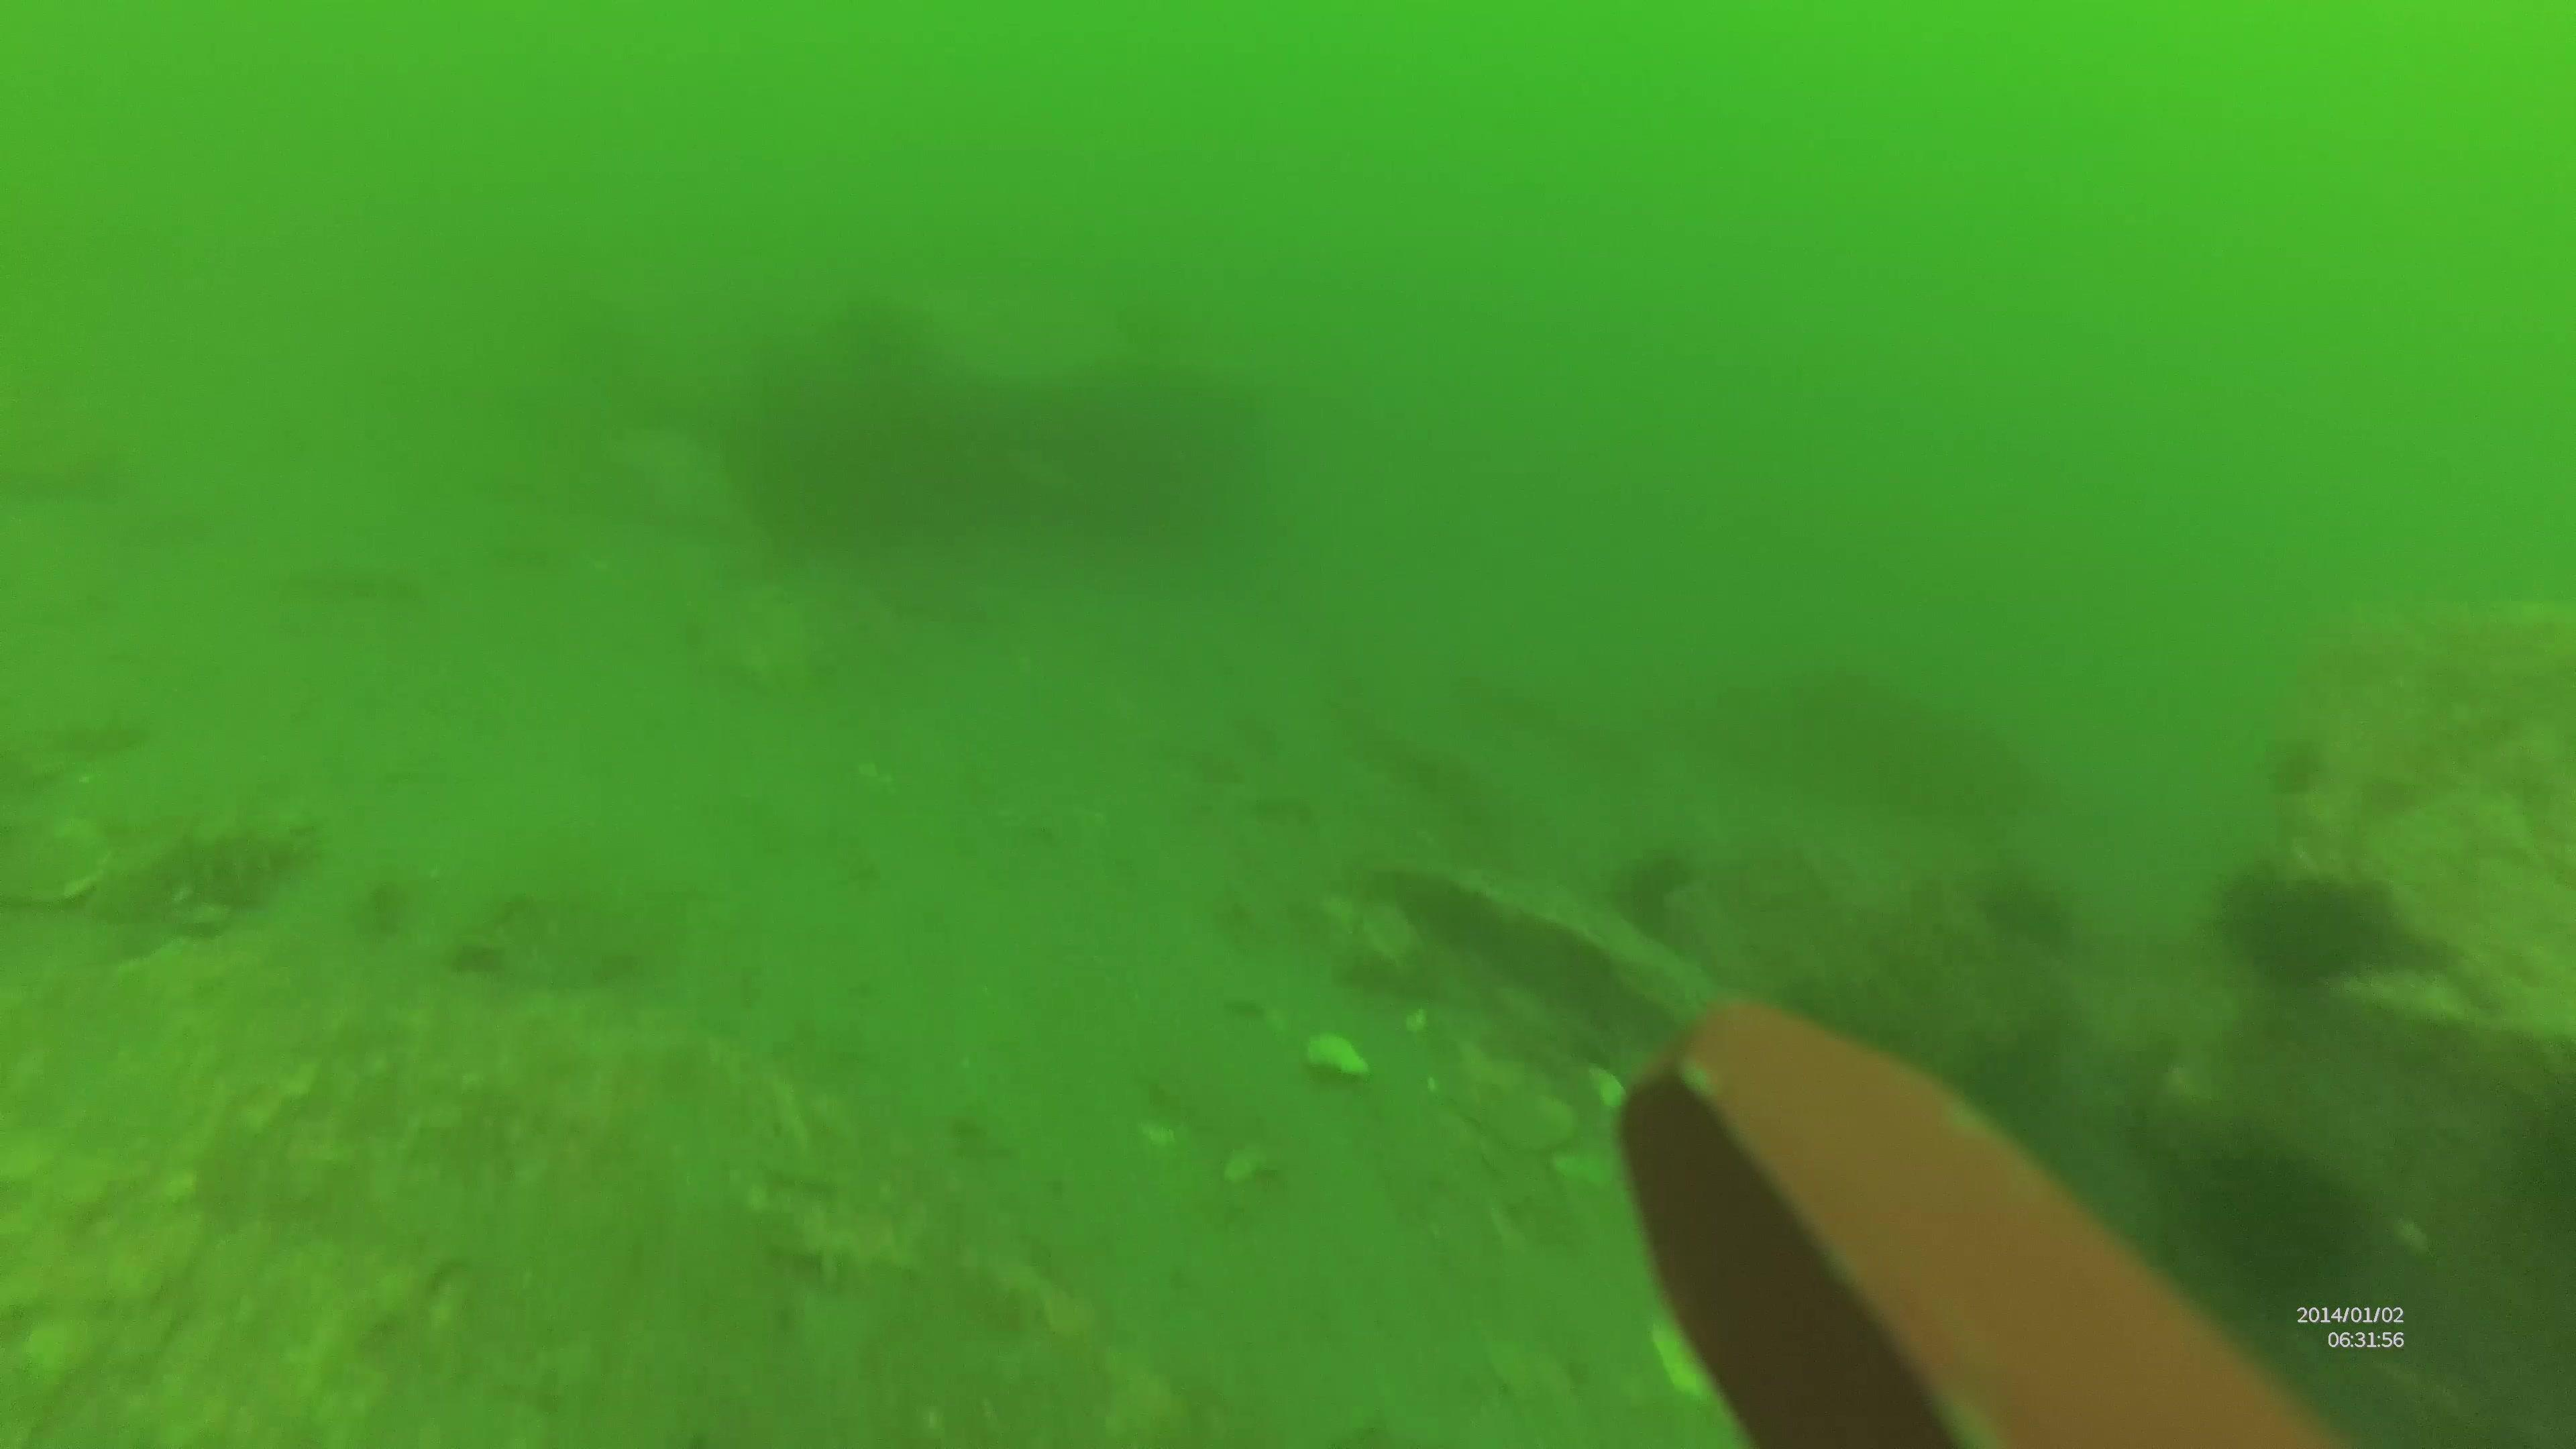echinus: (2166, 1122, 2383, 1313), (2197, 847, 2411, 996)
holothurian: (78, 805, 318, 931)
